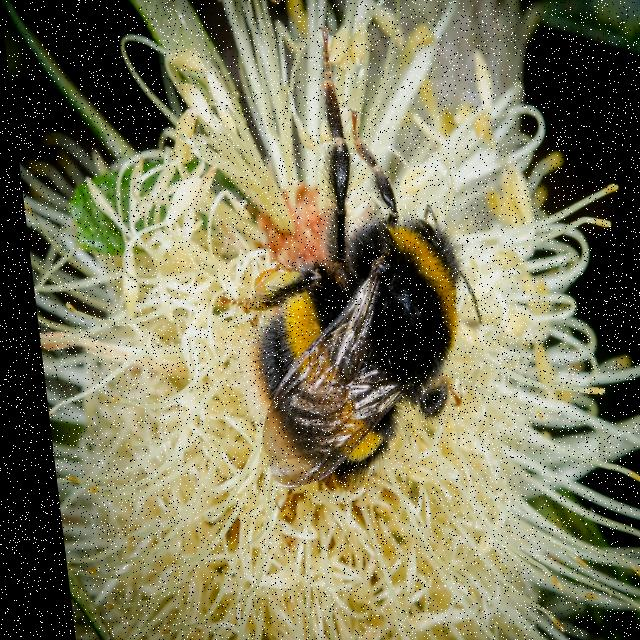Apis-mellifera-scutellata: (185, 17, 493, 519)
